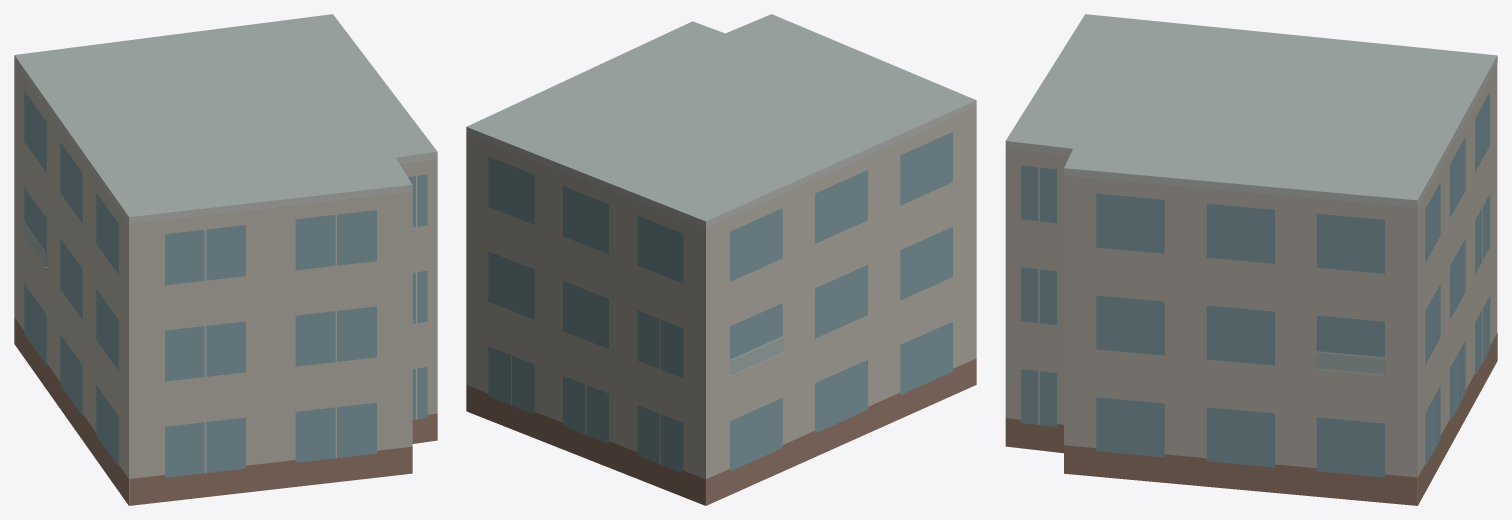
File: survey-upis-32844962.glb
3 renders of one model, left to right at view 1: azimuth 30°, elevation 25°; view 2: azimuth 150°, elevation 25°; view 3: azimuth 270°, elevation 25°, orthographic. The views are drawn at different scales.
Visible parts, largest first — view 1: survey-upis-32844962.tmp; view 2: survey-upis-32844962.tmp; view 3: survey-upis-32844962.tmp.
Part boxes in pixels (x1=…): survey-upis-32844962.tmp: x1=14, y1=14, x2=437, y2=505; survey-upis-32844962.tmp: x1=466, y1=14, x2=976, y2=505; survey-upis-32844962.tmp: x1=1005, y1=14, x2=1497, y2=505.
Bounding box in the file's own units: 12.96 × 9.9 × 14.46.
